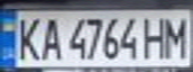4: (118, 14, 142, 61), (63, 13, 87, 60)
6: (103, 14, 124, 61)
7: (81, 15, 106, 60)
A: (36, 15, 66, 61)
H: (139, 13, 172, 60)
K: (9, 14, 45, 62)
M: (163, 12, 193, 59)
